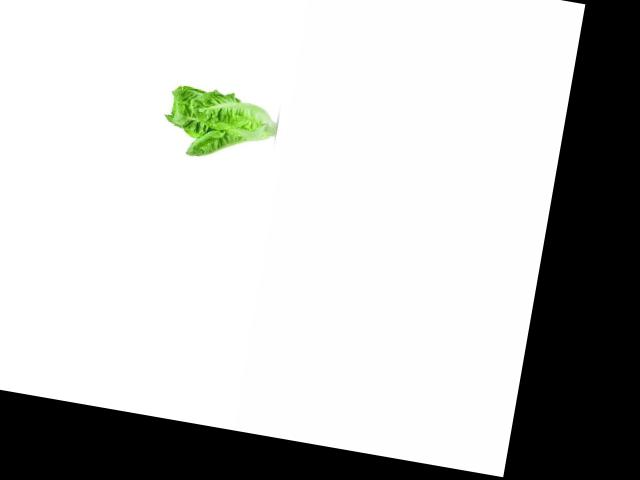lettuce: (158, 77, 277, 169)
